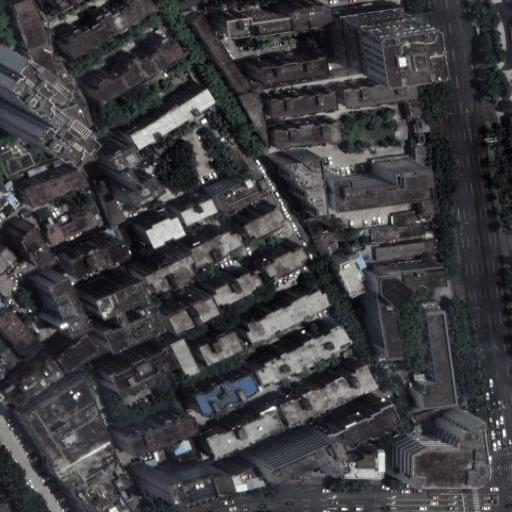building: (15, 379, 100, 468), (276, 354, 376, 416), (84, 33, 176, 99), (50, 439, 132, 512), (252, 314, 347, 377), (124, 79, 213, 143), (183, 11, 246, 97), (396, 408, 475, 475), (78, 264, 150, 336), (240, 281, 328, 337), (323, 155, 428, 200), (245, 424, 331, 476), (412, 309, 454, 409), (334, 3, 403, 62), (202, 404, 277, 457), (91, 130, 147, 197), (320, 393, 387, 443), (91, 339, 159, 388), (112, 406, 183, 448), (182, 367, 246, 413), (29, 267, 75, 328), (18, 169, 85, 209), (267, 148, 309, 208), (164, 285, 221, 328), (0, 303, 44, 357), (139, 242, 195, 284), (12, 0, 51, 60), (57, 230, 116, 268), (52, 106, 91, 163), (46, 205, 101, 245), (133, 455, 194, 491), (29, 52, 68, 108), (204, 169, 258, 209), (209, 260, 263, 300), (11, 351, 60, 394), (185, 221, 240, 259), (343, 74, 419, 101), (273, 121, 343, 149), (232, 88, 263, 148), (402, 91, 430, 156), (243, 43, 310, 70), (14, 222, 53, 268), (269, 82, 337, 108), (375, 301, 405, 359), (386, 265, 446, 293), (48, 323, 91, 361), (236, 198, 280, 234), (313, 227, 371, 254), (374, 241, 443, 262), (212, 7, 280, 28), (258, 238, 301, 270), (195, 323, 235, 357), (130, 206, 171, 239), (370, 222, 434, 243), (324, 251, 354, 294), (343, 448, 384, 479), (164, 332, 193, 371), (370, 279, 403, 309), (172, 192, 208, 218), (219, 460, 244, 486), (104, 198, 127, 226), (0, 376, 23, 401), (504, 116, 512, 167), (395, 210, 418, 225), (3, 191, 21, 209), (0, 179, 15, 199), (307, 220, 322, 235), (38, 209, 53, 221), (0, 213, 6, 220)
